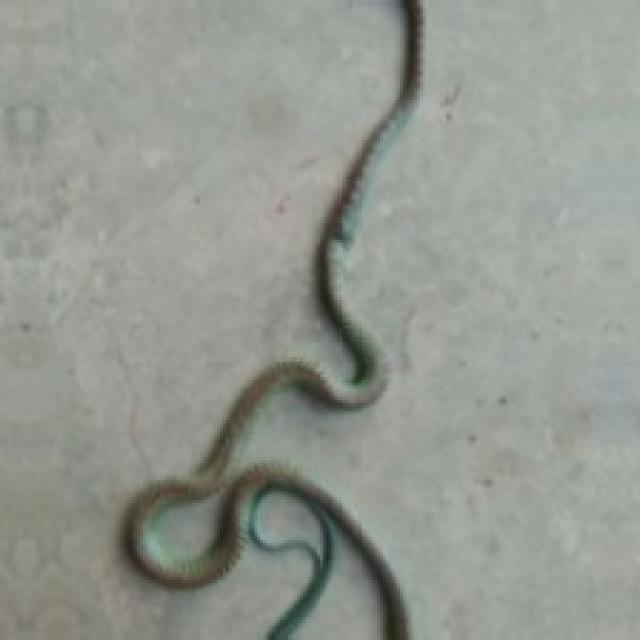paradise tree snake: (123, 0, 420, 637)
